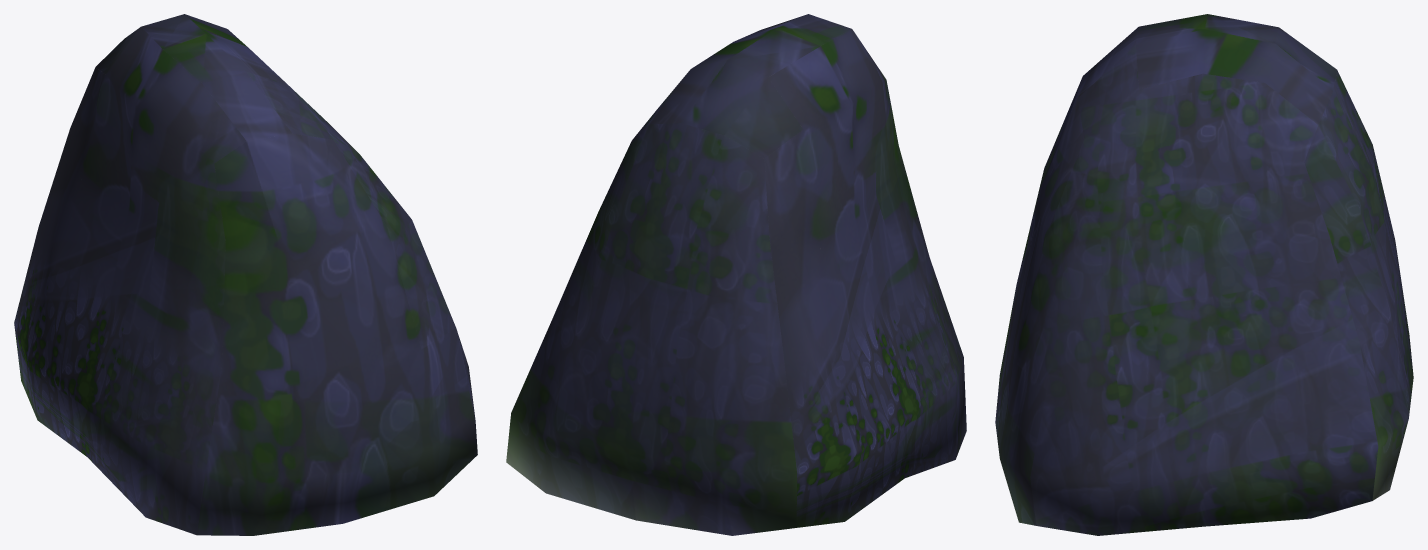
The model's file is SeaRock.fbx.
3 renders of one model, left to right at view 1: azimuth 30°, elevation 25°; view 2: azimuth 150°, elevation 25°; view 3: azimuth 270°, elevation 25°, orthographic. The views are drawn at different scales.
Parts seen in each view (by area): view 1: Cube; view 2: Cube; view 3: Cube.
Part boxes in pixels (x1,y1,x2,y2): Cube: [14, 14, 477, 535]; Cube: [506, 14, 966, 535]; Cube: [995, 14, 1413, 535].
Bounding box in the file's own units: 44.8 × 53.51 × 47.05.
1 material, 1 textured.
